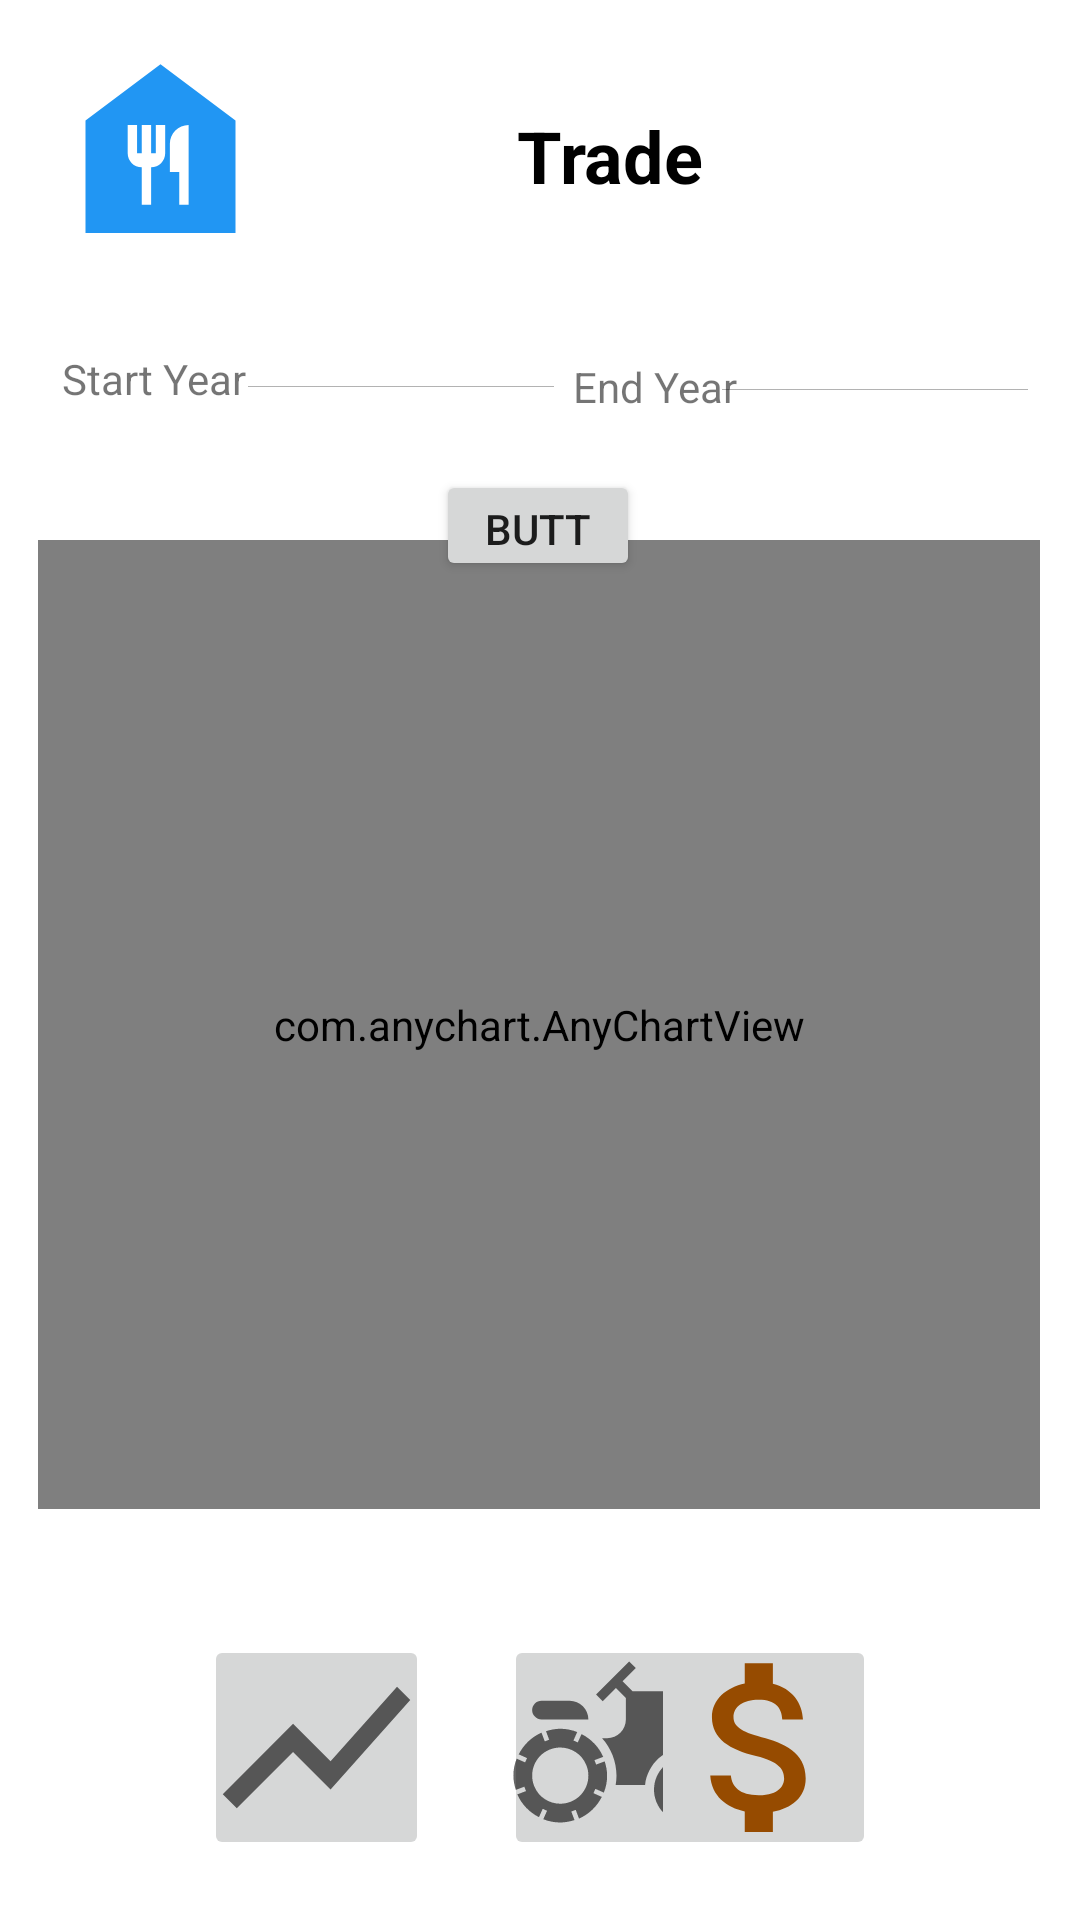

Icon bounding boxes for this 1080 × 1920 phone screenshot, format bbox=(x1, y1, x2, y2):
attach money select: bbox=(651, 1653, 864, 1842)
food bank: bbox=(85, 64, 236, 233)
show chart unselect: bbox=(216, 1653, 417, 1842)
